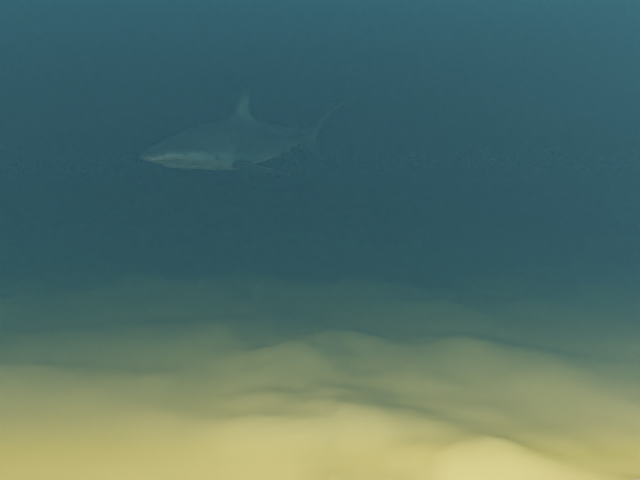Carribean Shark.001: (140, 88, 354, 176)
